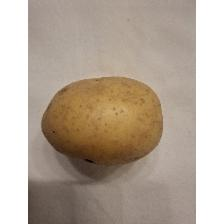Kartoffel: (40, 74, 166, 168)
